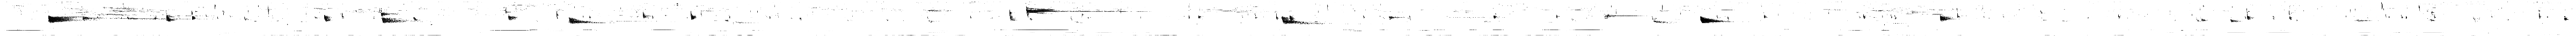meteor: (1025, 5, 1073, 15), (1281, 16, 1318, 25), (568, 16, 605, 23), (1700, 16, 1735, 23), (1605, 13, 1638, 20), (48, 16, 77, 23), (381, 18, 407, 23), (1651, 16, 1669, 23), (82, 16, 102, 21), (1940, 15, 1955, 21), (1009, 10, 1017, 21), (381, 11, 398, 16), (324, 15, 332, 23), (690, 10, 697, 20), (2247, 11, 2254, 21), (1388, 16, 1406, 20), (2231, 18, 2242, 23), (166, 15, 174, 21), (642, 11, 651, 18), (508, 15, 517, 20), (2564, 16, 2569, 21), (2201, 18, 2206, 21), (2430, 18, 2435, 21)
